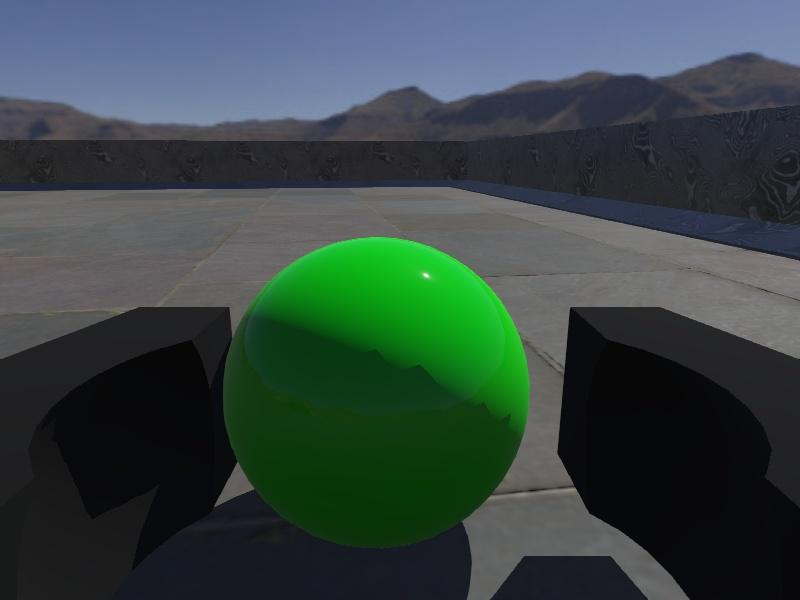green ball: (222, 235, 530, 549)
